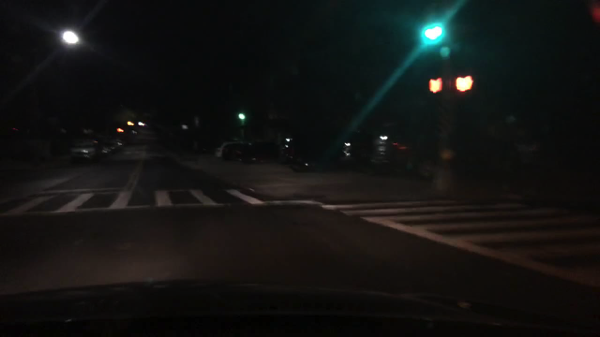car: (365, 132, 428, 174), (278, 136, 320, 172), (316, 134, 358, 170), (70, 129, 105, 166), (234, 140, 277, 166), (216, 139, 250, 162), (99, 135, 124, 158), (117, 124, 131, 139), (128, 124, 139, 135)
traffic light: (424, 20, 442, 43), (455, 74, 472, 92), (427, 76, 442, 95)
